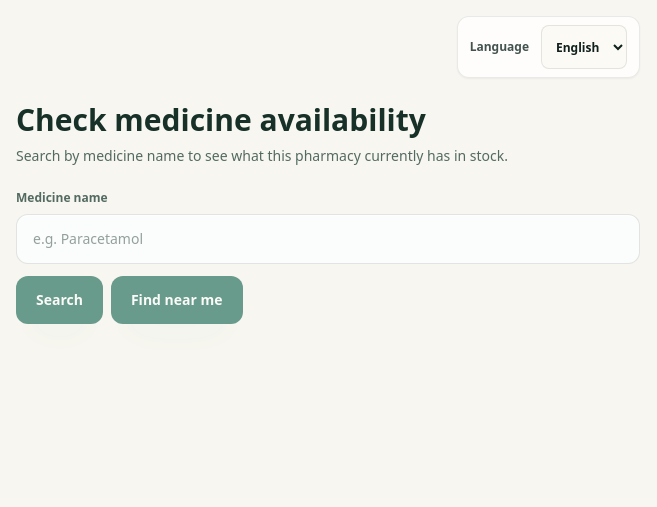
Test: PublicMedicineSearch › shows an out-of-stock badge and a prescription-required badge accurately
This screenshot has width=657, height=507.
Type "paracetamol" into the field labelled "Medicine name" at {"x": 328, "y": 239}, box [16,214,640,264]
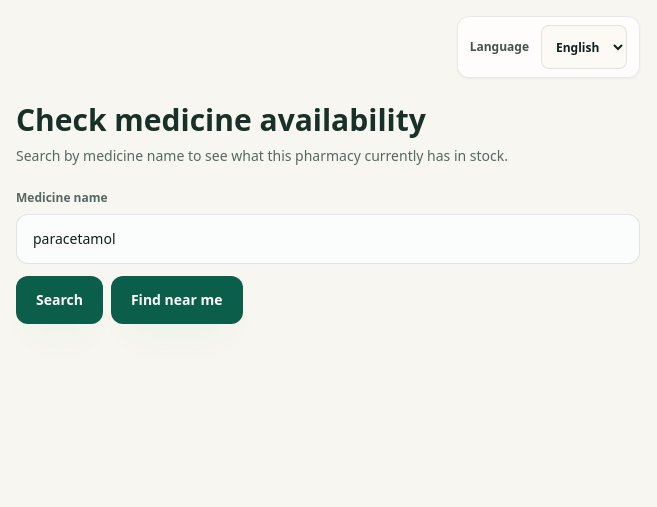
Click the button "Search" at {"x": 59, "y": 300}, box [16,276,103,324]
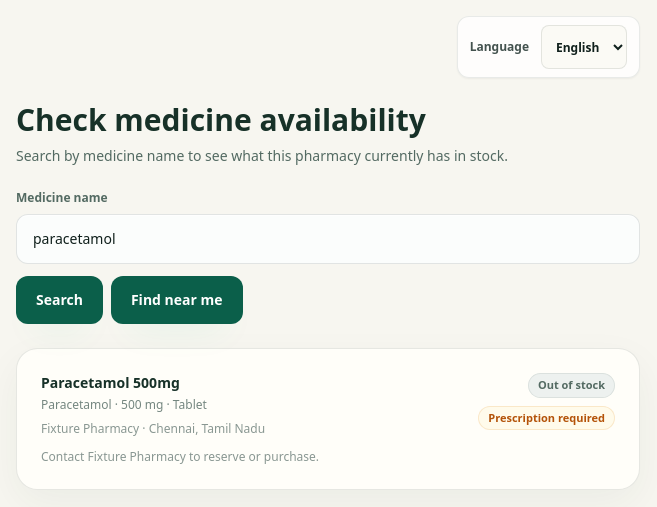
Check: the text "Out of stock" is shown, box [528,373,615,398]
Check: the text "Prescription required" is shown, box [478,406,615,430]
